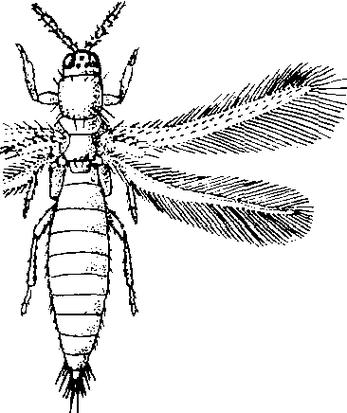Phlaeothripidae: (1, 1, 345, 410)
